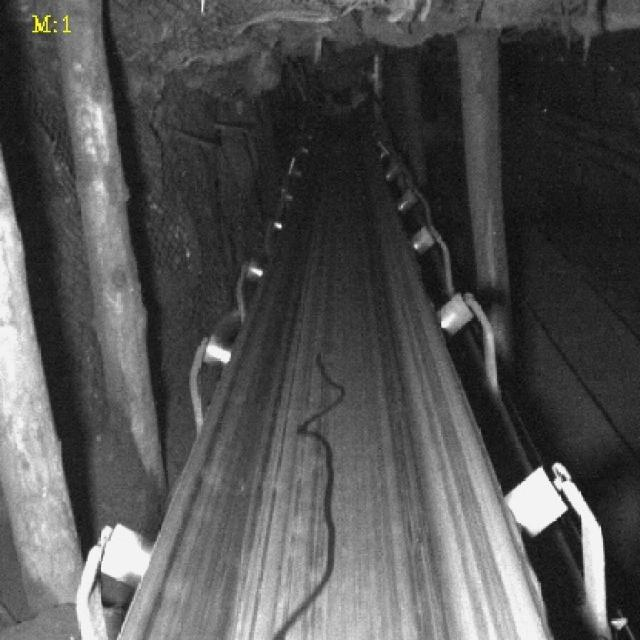bolt: (268, 351, 349, 640)
